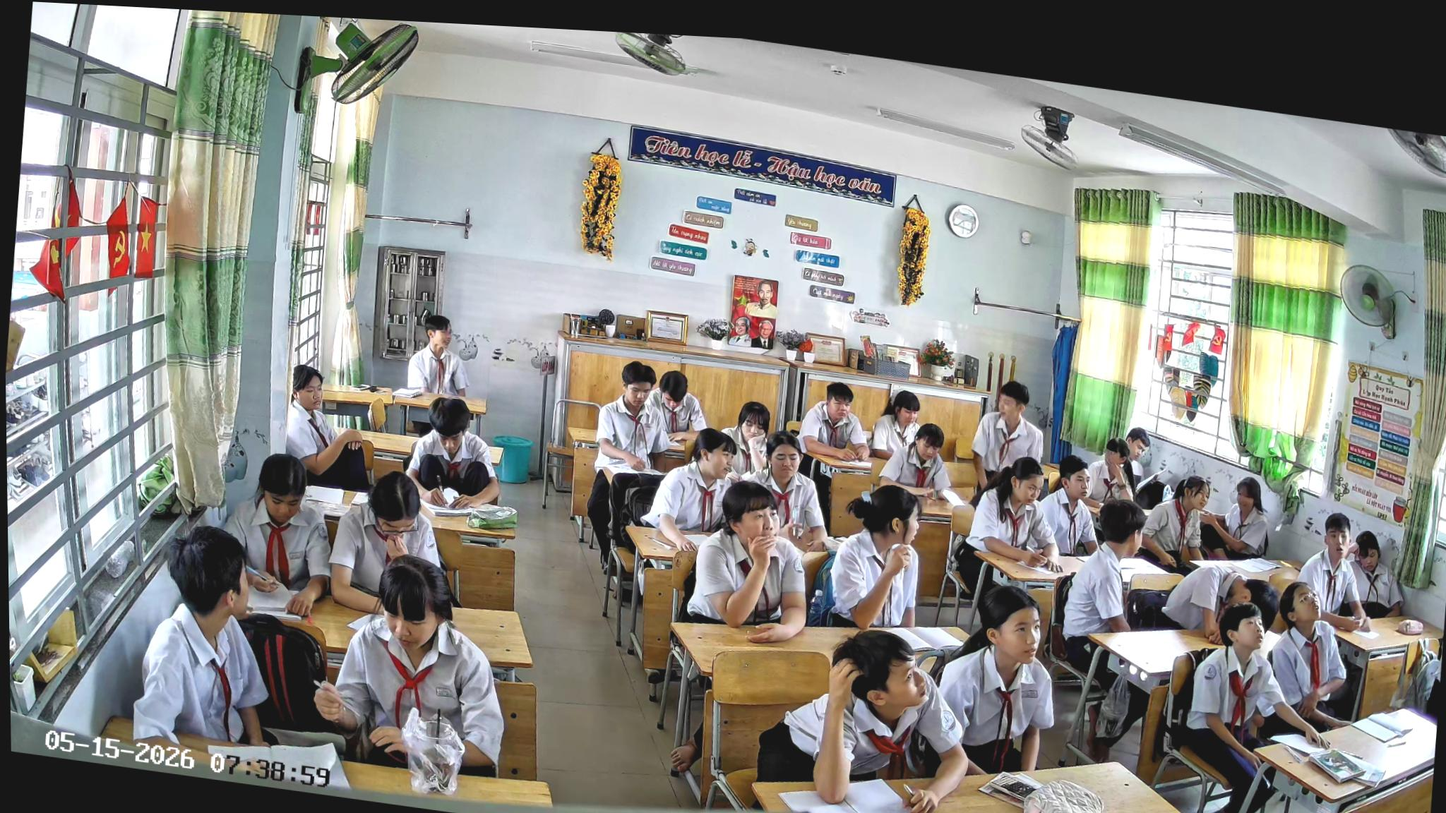person: (305, 542, 521, 784), (747, 613, 982, 813), (128, 516, 293, 763), (1171, 593, 1346, 813), (914, 573, 1067, 786), (682, 474, 822, 650), (576, 354, 679, 580), (213, 446, 345, 622), (323, 461, 455, 623), (812, 475, 931, 642), (950, 448, 1074, 603), (1251, 574, 1369, 736), (636, 418, 747, 562), (1059, 492, 1153, 662), (868, 416, 978, 554), (789, 377, 879, 539), (276, 362, 383, 495), (399, 393, 509, 518), (735, 427, 837, 556), (1281, 506, 1382, 636), (1160, 555, 1285, 654), (964, 375, 1052, 514), (1132, 467, 1222, 582), (401, 311, 478, 444), (1029, 450, 1110, 562), (1194, 471, 1275, 569), (1343, 528, 1411, 623), (649, 368, 713, 449), (716, 397, 775, 484), (868, 386, 928, 466), (1085, 433, 1144, 512), (1119, 425, 1173, 511)
